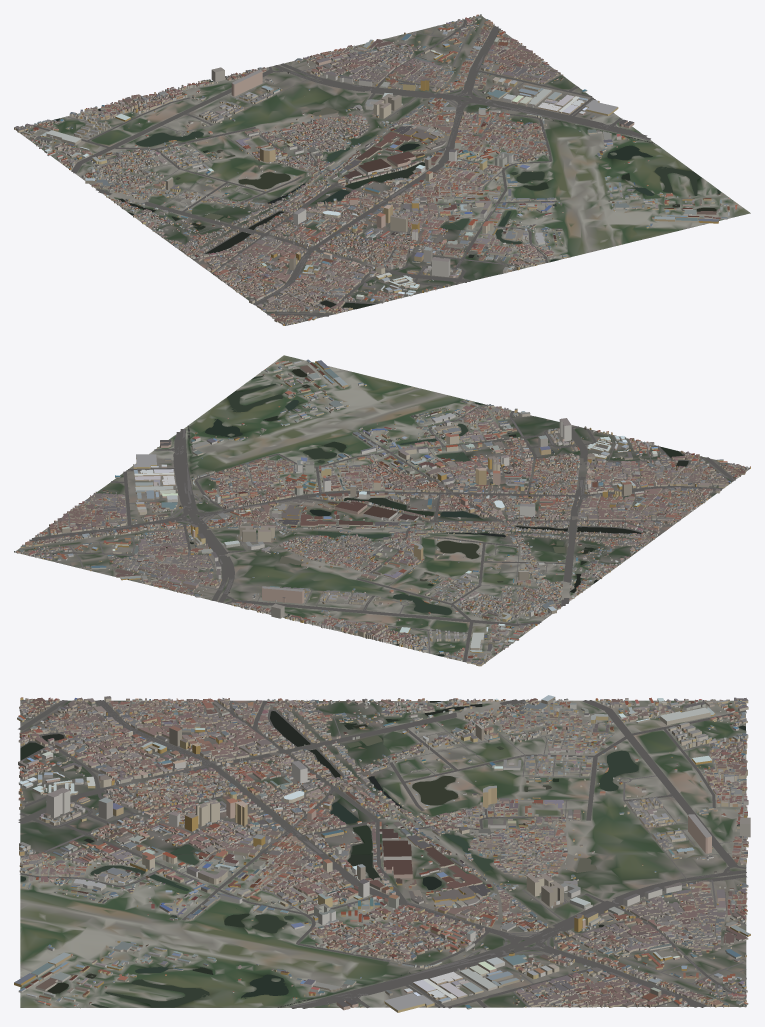
3 views of the same model, one above another, from view 1: azimuth 30°, elevation 25°; view 2: azimuth 150°, elevation 25°; view 3: azimuth 270°, elevation 25° (orthographic). The views are drawn at different scales.
Visible parts, largest first — view 1: buildings, ground, roads, water; view 2: buildings, ground, roads, water; view 3: buildings, ground, roads, water.
Boxes of the visible parts, x1,y1,x2,y2 form: buildings: (14,14,737,325); ground: (16,15,750,325); roads: (32,16,729,325); water: (53,107,720,308); buildings: (14,359,750,666); ground: (15,355,748,664); roads: (19,371,749,662); water: (188,369,688,656); buildings: (14,695,750,1012); ground: (20,700,746,1007); roads: (18,699,746,1008); water: (20,701,745,1007).
Size of the model in its own units: 2862 by 94.33 by 2846.
